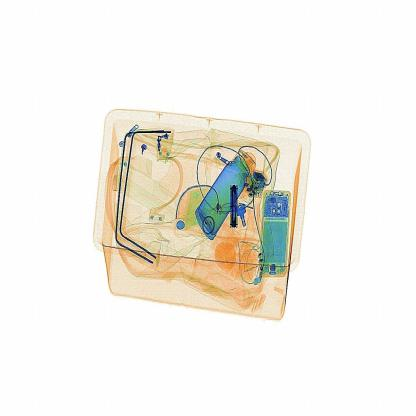scissors: (224, 180, 245, 234)
